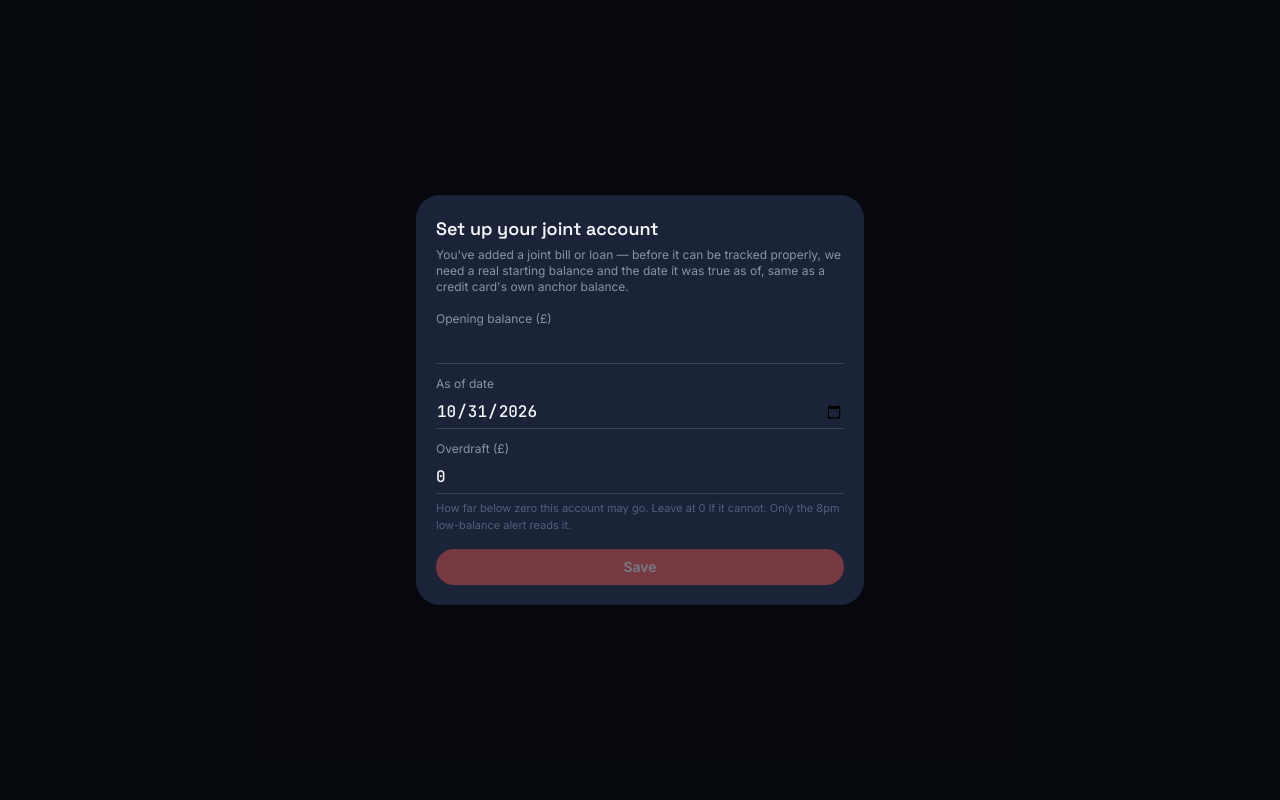
Test: the joint account › 🚨 first-time setup has no "unchanged" to compare against, so Save works once valid
In the number field labelled "Opening balance (£)": (640, 348) [436, 331, 844, 364], type "250"
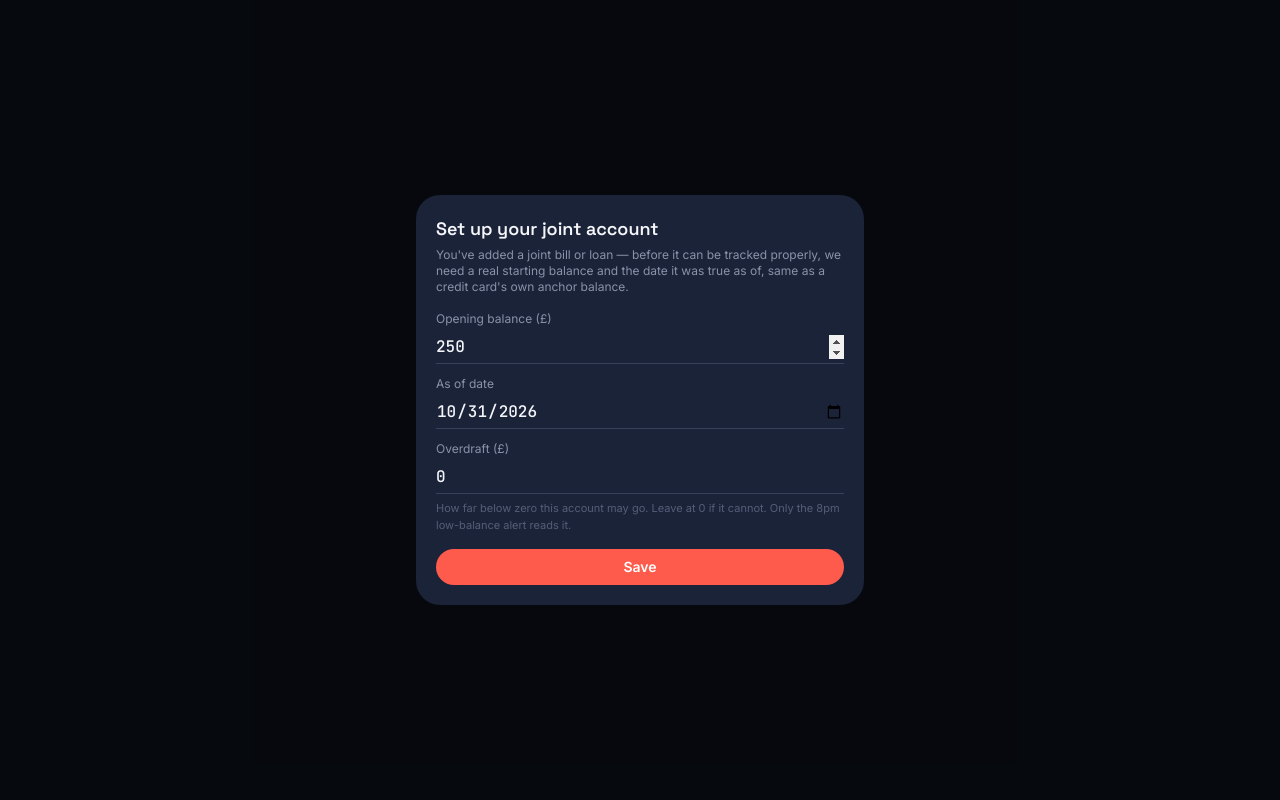
Result: the button "Save" is enabled at [436, 549, 844, 585]
